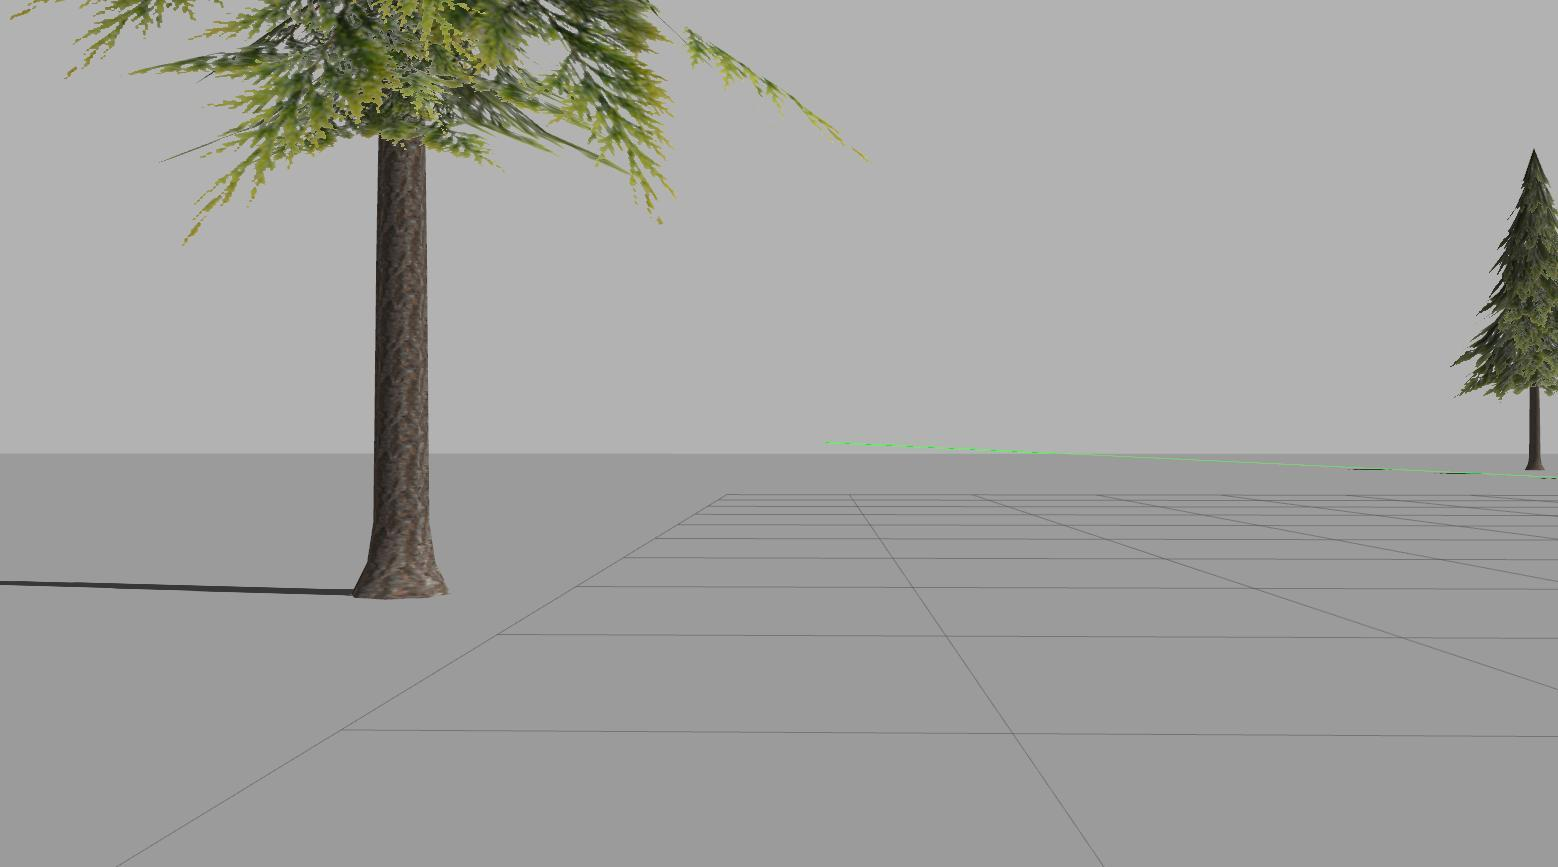tree_gazebo: (143, 0, 669, 599), (1454, 152, 1558, 470)
